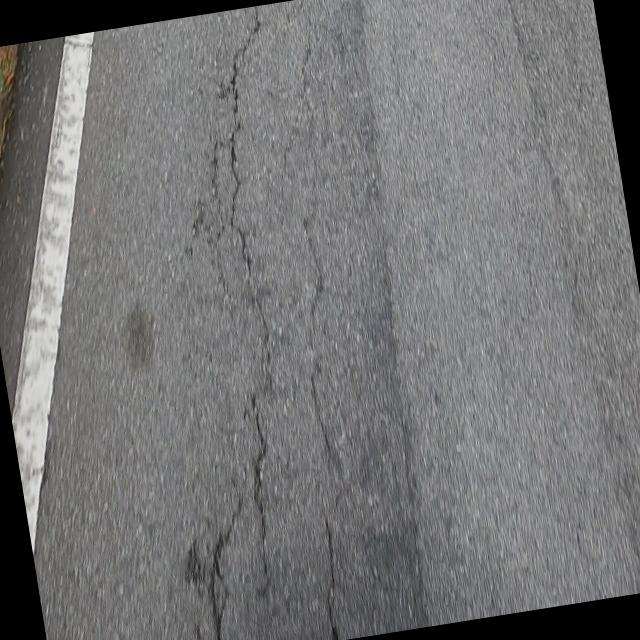Retak-Memanjang: (227, 6, 274, 576), (306, 224, 343, 635), (207, 509, 244, 640)
